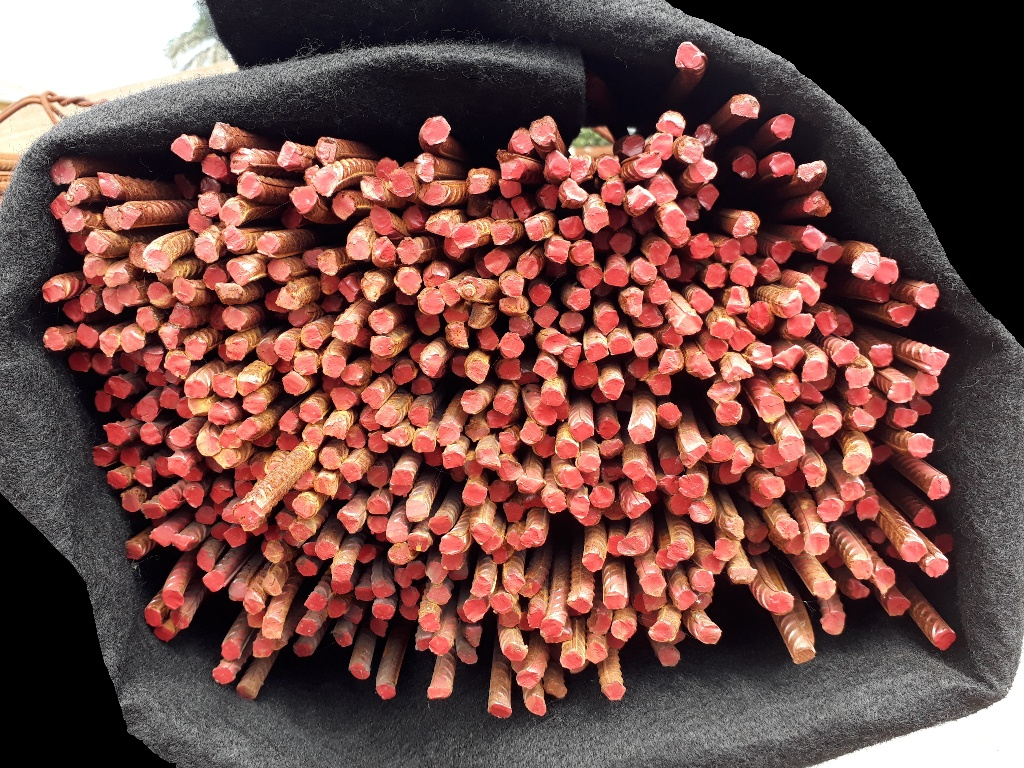dipstick: (470, 522, 505, 554), (646, 175, 678, 207), (149, 523, 185, 550), (851, 249, 881, 281), (845, 357, 874, 389), (529, 115, 558, 147), (193, 230, 221, 263), (371, 234, 398, 268), (187, 208, 221, 235), (288, 184, 318, 214), (462, 413, 493, 442), (464, 166, 496, 194), (385, 169, 415, 198), (496, 149, 523, 181), (539, 617, 572, 643), (803, 188, 832, 217), (687, 351, 716, 380), (133, 306, 162, 335), (473, 436, 498, 469), (417, 181, 451, 205), (422, 116, 451, 144), (232, 503, 261, 531), (756, 396, 786, 423), (129, 395, 159, 422), (675, 41, 702, 70), (730, 93, 759, 120), (813, 413, 842, 440), (688, 232, 715, 261), (452, 222, 481, 249), (626, 185, 656, 211), (573, 358, 599, 388), (361, 271, 385, 303), (771, 345, 804, 368), (707, 380, 740, 403), (467, 301, 494, 329), (238, 173, 265, 201), (219, 223, 247, 250), (796, 276, 821, 306), (331, 191, 356, 221), (104, 374, 134, 399), (677, 139, 705, 165), (278, 140, 304, 168), (274, 284, 302, 310), (146, 281, 172, 309), (746, 301, 771, 330), (679, 443, 708, 468), (466, 356, 491, 385), (545, 150, 569, 180), (496, 457, 526, 481), (461, 483, 491, 507), (457, 276, 487, 300), (419, 348, 443, 378), (117, 282, 148, 305), (370, 203, 392, 235), (908, 432, 935, 458), (498, 332, 524, 359), (219, 201, 246, 227), (211, 372, 238, 398), (40, 325, 67, 351), (770, 112, 795, 140), (768, 152, 796, 177), (798, 157, 826, 182), (832, 340, 860, 365), (786, 313, 814, 338), (778, 435, 806, 460), (648, 132, 673, 160), (709, 434, 734, 462), (485, 248, 510, 276), (360, 173, 385, 201), (98, 171, 123, 199), (255, 336, 279, 365), (655, 111, 685, 134), (801, 223, 827, 249), (855, 496, 881, 522), (646, 238, 672, 264), (368, 308, 394, 334), (202, 152, 228, 178), (225, 260, 251, 286), (171, 277, 197, 303), (887, 379, 914, 404), (804, 531, 831, 556), (759, 475, 786, 500), (690, 158, 717, 183), (532, 431, 557, 458), (203, 263, 228, 290), (842, 451, 870, 475), (728, 328, 756, 352), (712, 537, 740, 561), (541, 332, 569, 356), (417, 290, 445, 314), (396, 237, 420, 265), (281, 371, 309, 395), (166, 137, 194, 161), (214, 281, 246, 302), (925, 347, 948, 376), (815, 308, 838, 337), (249, 450, 272, 479), (103, 285, 126, 314), (633, 306, 663, 328), (514, 475, 547, 495), (223, 497, 245, 527), (821, 611, 846, 637), (583, 209, 609, 234), (532, 304, 558, 329), (517, 573, 543, 598), (460, 388, 485, 414), (241, 587, 266, 613), (66, 181, 91, 207), (647, 277, 671, 304), (634, 153, 661, 177), (338, 276, 362, 303), (224, 337, 251, 361), (117, 204, 141, 231), (662, 209, 685, 237), (767, 591, 795, 614), (677, 474, 705, 497), (868, 343, 893, 368), (817, 497, 842, 522), (646, 370, 671, 395), (610, 618, 635, 643), (436, 421, 461, 446), (424, 559, 449, 584), (322, 353, 347, 378), (331, 386, 356, 411), (256, 231, 281, 256), (206, 401, 231, 426), (862, 395, 888, 419), (716, 401, 742, 425), (578, 265, 604, 289), (546, 239, 570, 265), (631, 212, 657, 236), (488, 221, 514, 245), (389, 469, 413, 495), (74, 324, 100, 348), (916, 283, 939, 310), (675, 311, 702, 334), (630, 258, 657, 281), (568, 153, 591, 180), (313, 171, 336, 198), (164, 355, 191, 378), (158, 323, 181, 350), (888, 304, 916, 326), (621, 290, 643, 318), (382, 426, 410, 448), (103, 424, 131, 446), (725, 287, 746, 316), (926, 475, 950, 500), (771, 239, 795, 264), (732, 154, 757, 178), (589, 485, 614, 509), (596, 310, 620, 335), (559, 311, 584, 335), (491, 540, 515, 565), (397, 270, 421, 295), (366, 465, 390, 490), (345, 235, 370, 259), (196, 433, 221, 457), (142, 346, 166, 371), (168, 303, 193, 327), (52, 161, 77, 185), (800, 359, 826, 382), (729, 264, 755, 287), (743, 520, 769, 543), (600, 182, 626, 205), (516, 254, 539, 280), (532, 403, 558, 426), (400, 205, 423, 231), (264, 541, 287, 567), (874, 567, 896, 594), (697, 184, 719, 211), (639, 573, 666, 595), (449, 320, 471, 347), (146, 251, 173, 273), (425, 216, 453, 237), (240, 393, 268, 414), (874, 260, 898, 284), (690, 569, 714, 593), (567, 287, 591, 311), (533, 357, 557, 381), (463, 598, 487, 622), (703, 338, 728, 361), (657, 403, 682, 426), (657, 348, 680, 373), (558, 214, 583, 237), (563, 178, 588, 201), (511, 128, 534, 153), (519, 525, 544, 548), (489, 591, 514, 614), (438, 281, 461, 306), (332, 321, 357, 344), (298, 402, 323, 425), (313, 474, 338, 497), (209, 480, 232, 505), (78, 290, 103, 313), (523, 216, 545, 242), (321, 373, 347, 395), (221, 307, 247, 329), (252, 633, 274, 659), (119, 330, 145, 352), (85, 231, 111, 253), (901, 541, 928, 562), (316, 137, 337, 164), (773, 382, 801, 402), (730, 447, 750, 475), (915, 371, 939, 394), (913, 505, 936, 529), (925, 555, 948, 579), (775, 516, 799, 539), (689, 289, 713, 312), (585, 641, 609, 664), (560, 467, 584, 490), (501, 273, 524, 297), (319, 446, 342, 470), (159, 486, 182, 510), (99, 333, 122, 357), (61, 210, 85, 233), (725, 365, 754, 384), (893, 405, 918, 427), (813, 366, 835, 391), (628, 423, 653, 445), (602, 498, 627, 520), (602, 378, 627, 400), (572, 240, 594, 265), (461, 624, 483, 649), (496, 359, 521, 381), (440, 533, 465, 555), (323, 415, 345, 440), (274, 337, 296, 362), (803, 462, 824, 488), (501, 574, 527, 595), (392, 364, 418, 385), (317, 250, 338, 276), (289, 306, 315, 327), (208, 122, 229, 148), (237, 418, 263, 439), (169, 426, 195, 447), (809, 263, 829, 290), (231, 146, 251, 173), (853, 406, 876, 429), (761, 445, 784, 468), (668, 492, 691, 515), (417, 312, 440, 335), (678, 197, 700, 221), (666, 226, 690, 248), (688, 501, 712, 523), (597, 157, 621, 179), (509, 197, 531, 221), (545, 489, 567, 513), (387, 541, 409, 565), (301, 326, 323, 350), (266, 289, 290, 311), (203, 571, 227, 593), (886, 596, 911, 617), (833, 312, 854, 337), (760, 256, 781, 281), (811, 579, 836, 600), (750, 345, 771, 370), (705, 263, 726, 288), (530, 282, 551, 307), (560, 342, 581, 367), (519, 423, 544, 444), (497, 607, 522, 628), (369, 334, 394, 355), (337, 462, 362, 483), (291, 497, 316, 518), (291, 469, 316, 490), (223, 526, 248, 547), (262, 615, 283, 640), (139, 423, 164, 444), (729, 566, 758, 584), (39, 284, 68, 302), (102, 204, 120, 233), (783, 290, 803, 316), (732, 211, 752, 237), (443, 303, 469, 323), (184, 379, 210, 399), (616, 537, 643, 556), (406, 533, 433, 552), (909, 394, 932, 416), (800, 382, 823, 404), (633, 592, 656, 614), (609, 334, 632, 356), (524, 693, 547, 715), (477, 326, 499, 349), (322, 290, 345, 312), (162, 587, 185, 609), (182, 486, 205, 508), (132, 465, 154, 488), (188, 395, 211, 417), (184, 338, 207, 360), (92, 350, 114, 373), (719, 463, 743, 484), (608, 233, 632, 254), (468, 576, 492, 597), (487, 479, 511, 500), (509, 314, 533, 335), (443, 237, 467, 258), (375, 158, 399, 179), (368, 430, 389, 454), (374, 405, 398, 426), (336, 512, 360, 533), (294, 556, 318, 577), (290, 522, 314, 543), (212, 449, 240, 467), (106, 471, 134, 489), (870, 444, 895, 464), (604, 266, 629, 286), (599, 437, 624, 457), (515, 669, 540, 689), (330, 561, 355, 581), (314, 540, 339, 560), (818, 243, 844, 262), (474, 254, 493, 280), (426, 586, 452, 605), (235, 377, 261, 396), (200, 178, 229, 195), (647, 623, 674, 641), (574, 508, 601, 526), (719, 240, 741, 262), (661, 326, 683, 348), (344, 426, 366, 448), (121, 490, 143, 512), (91, 445, 113, 467), (656, 473, 679, 494), (606, 208, 627, 231), (492, 394, 515, 415), (341, 364, 364, 385), (303, 591, 326, 612), (294, 354, 317, 375), (268, 259, 291, 280), (696, 123, 716, 147), (643, 592, 667, 612), (587, 614, 611, 634), (570, 422, 594, 442), (498, 179, 522, 199), (486, 408, 510, 428), (279, 410, 299, 434), (68, 228, 88, 252), (841, 481, 866, 500), (710, 320, 735, 339), (622, 461, 647, 480), (602, 591, 627, 610), (294, 618, 319, 637), (143, 608, 168, 627), (846, 387, 872, 405), (851, 559, 873, 580), (783, 533, 805, 554), (793, 408, 815, 429), (736, 235, 758, 256), (407, 406, 429, 427), (406, 501, 428, 522), (262, 575, 283, 597), (175, 397, 196, 419), (160, 388, 182, 409), (654, 549, 677, 569), (633, 337, 656, 357), (504, 642, 527, 662), (400, 585, 420, 608), (386, 522, 409, 542), (362, 388, 385, 408), (321, 273, 341, 296), (303, 427, 323, 450), (195, 550, 215, 573), (195, 505, 218, 525), (141, 502, 168, 519), (627, 501, 651, 520), (570, 494, 589, 518), (585, 342, 609, 361), (428, 516, 452, 535), (369, 354, 393, 373), (172, 531, 196, 550), (577, 453, 602, 471), (218, 429, 243, 447), (500, 297, 528, 313), (658, 455, 684, 472), (785, 471, 806, 492), (724, 516, 745, 537), (604, 680, 625, 701), (420, 612, 441, 633), (430, 635, 451, 656), (303, 248, 324, 269), (220, 640, 241, 661), (170, 609, 191, 630), (794, 645, 816, 665), (667, 541, 689, 561), (503, 502, 525, 522), (356, 544, 378, 564), (621, 136, 644, 155), (633, 475, 656, 494), (597, 419, 620, 438), (94, 388, 113, 411), (689, 593, 713, 611), (607, 533, 625, 557), (441, 552, 465, 570), (276, 434, 300, 452), (567, 597, 592, 614), (441, 451, 466, 468), (700, 625, 721, 645), (677, 589, 698, 609), (628, 358, 649, 378), (546, 678, 567, 698), (227, 581, 247, 602), (155, 455, 175, 476), (183, 467, 211, 482), (64, 298, 85, 318), (156, 264, 178, 283), (847, 581, 870, 599), (561, 652, 584, 670), (232, 480, 250, 503), (274, 510, 297, 528), (874, 280, 891, 304), (372, 582, 396, 599), (211, 666, 235, 683), (931, 629, 951, 649), (773, 459, 798, 475), (540, 389, 565, 405), (405, 560, 425, 580), (167, 457, 187, 477), (582, 553, 603, 572), (375, 682, 396, 701), (368, 514, 389, 533), (125, 539, 144, 560), (145, 367, 166, 386), (662, 255, 680, 277), (447, 562, 469, 580), (393, 566, 411, 588), (332, 629, 354, 647), (601, 465, 624, 482), (250, 432, 274, 448), (591, 231, 611, 250), (528, 609, 547, 629), (369, 618, 389, 637), (353, 327, 372, 347), (282, 491, 302, 510), (120, 446, 140, 465), (814, 543, 835, 561), (659, 649, 680, 667), (457, 647, 478, 665), (304, 165, 322, 186), (234, 462, 255, 480), (245, 610, 266, 628), (513, 372, 538, 387), (451, 354, 466, 379), (372, 603, 394, 620), (747, 539, 770, 555), (581, 467, 600, 486), (591, 384, 610, 403), (409, 343, 428, 362), (464, 458, 483, 477), (488, 703, 512, 718), (237, 682, 257, 700), (417, 163, 434, 184), (399, 603, 420, 620), (332, 482, 353, 499), (411, 378, 433, 394), (367, 498, 389, 514), (642, 611, 659, 631), (326, 599, 346, 616), (347, 603, 364, 623), (521, 494, 545, 508), (349, 663, 370, 679), (293, 642, 314, 658), (395, 290, 417, 305), (868, 526, 887, 543), (274, 355, 294, 371), (354, 586, 375, 601), (934, 532, 948, 554), (426, 687, 451, 698), (415, 634, 431, 651), (266, 526, 282, 543), (121, 355, 137, 372), (329, 582, 353, 593), (827, 554, 845, 568), (211, 524, 227, 539), (302, 542, 317, 557), (415, 152, 434, 163), (888, 545, 902, 559), (376, 531, 389, 542)
